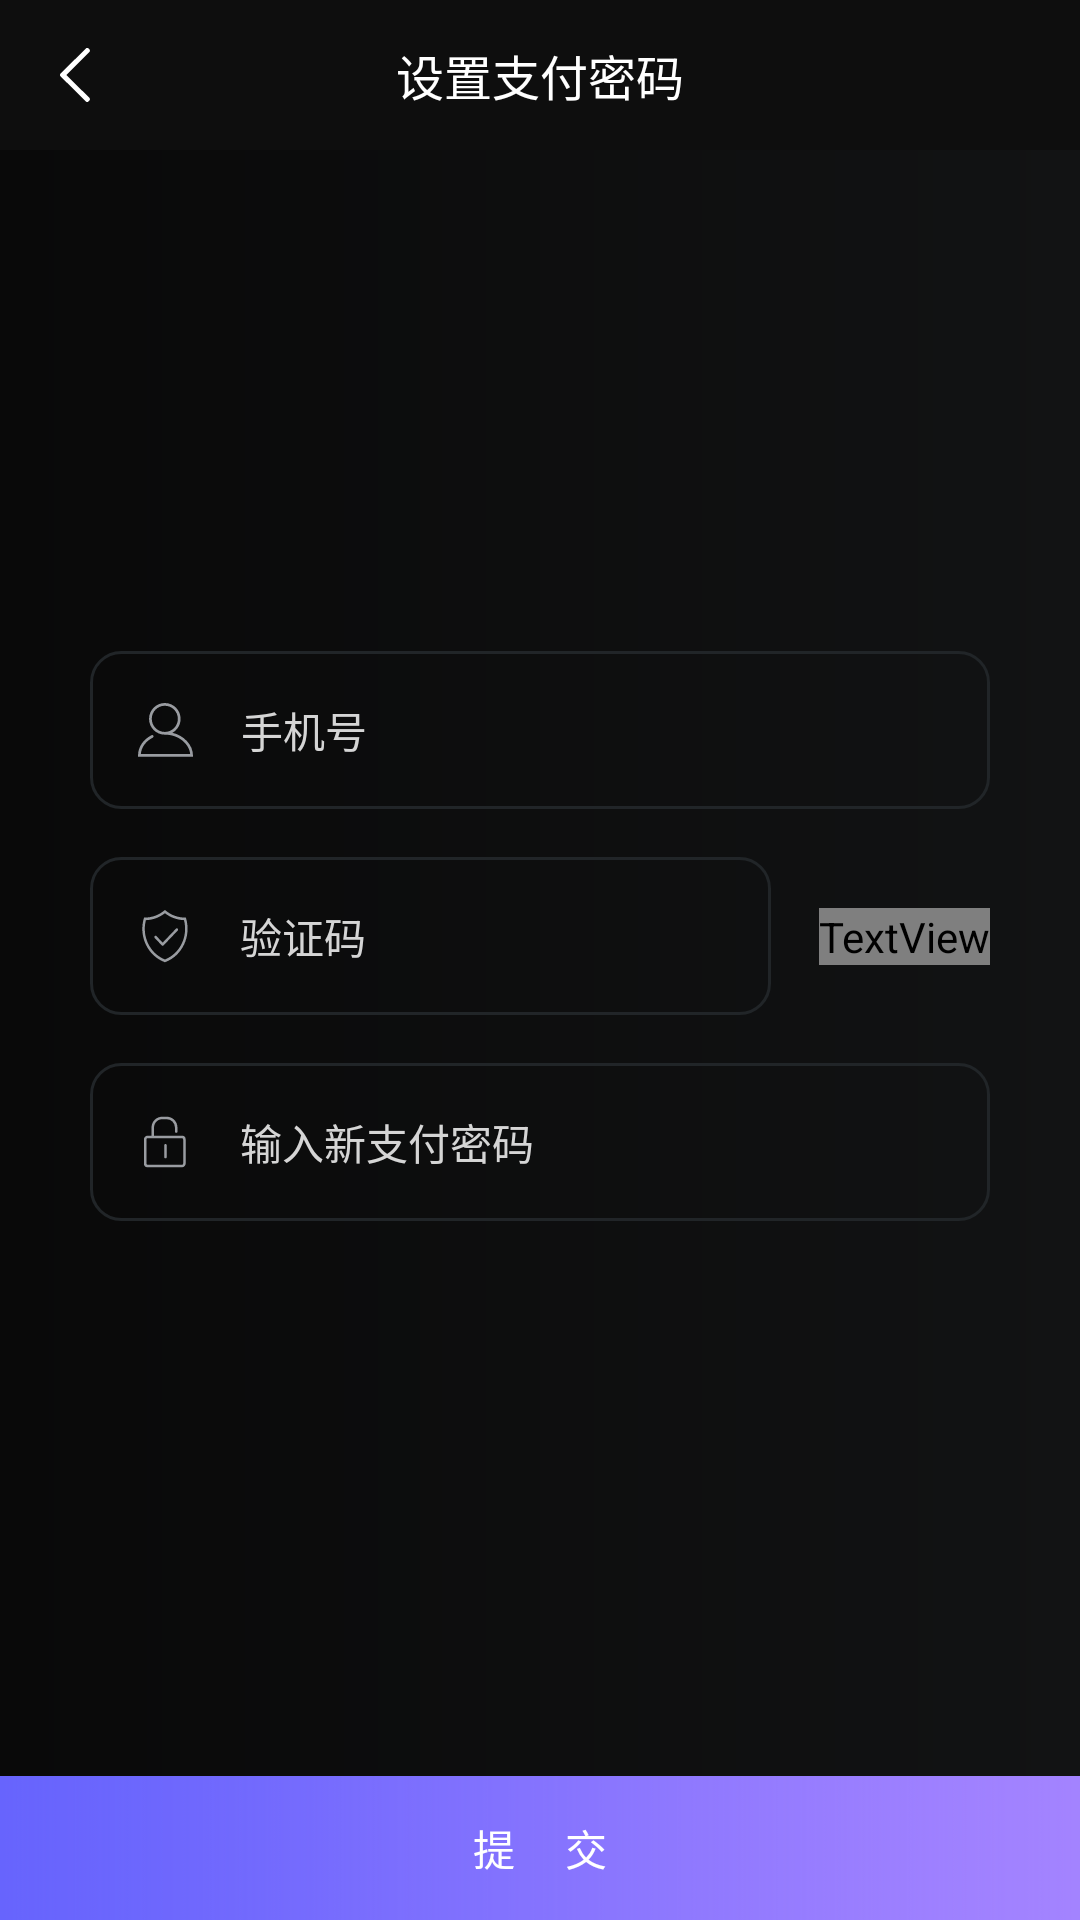

Icons on this 1080w x 1920h Android screen, each with its box as (x1, y1, x2, y2):
back: (60, 48, 90, 102)
